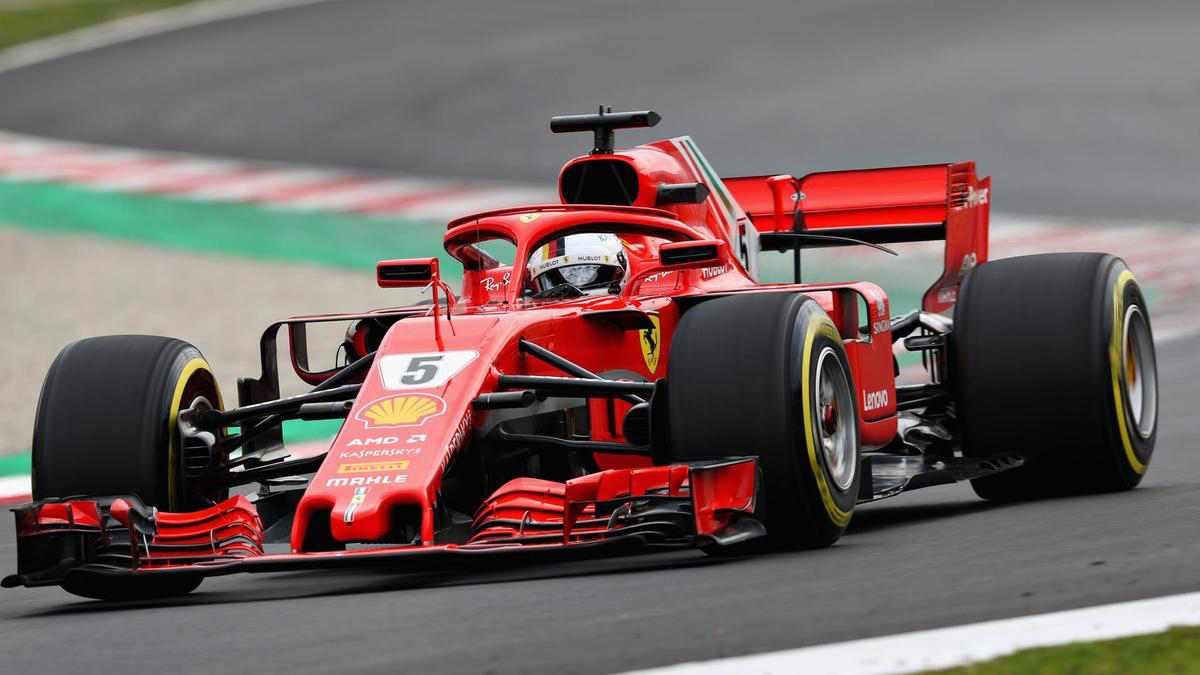F1 Car: (1, 99, 1183, 607)
